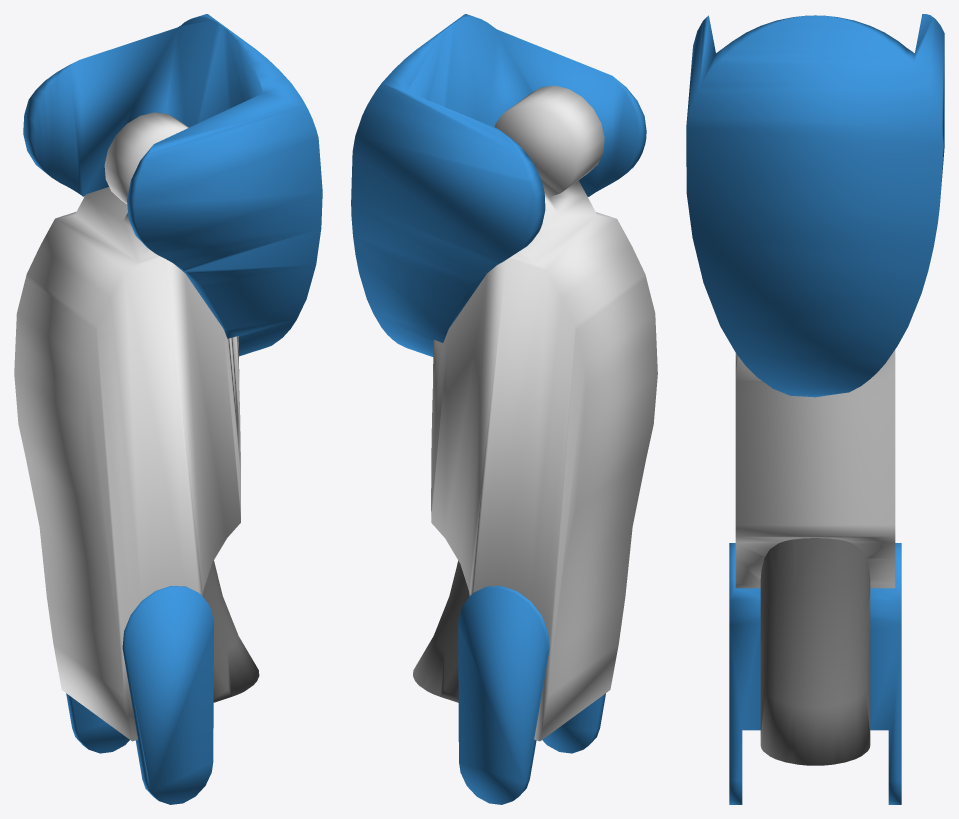
Rendered from R_KNEE_P.dae.
3 renders of one model, left to right at view 1: azimuth 30°, elevation 25°; view 2: azimuth 150°, elevation 25°; view 3: azimuth 270°, elevation 25°, orthographic. The views are drawn at different scales.
Parts seen in each view (by area): view 1: ShapeIndexedFaceS_111, ShapeIndexedFaceS_112, ShapeIndexedFaceS_113; view 2: ShapeIndexedFaceS_111, ShapeIndexedFaceS_112, ShapeIndexedFaceS_113; view 3: ShapeIndexedFaceS_112, ShapeIndexedFaceS_111, ShapeIndexedFaceS_113.
Boxes of the visible parts, bbox=[...] form: ShapeIndexedFaceS_111: bbox=[14, 112, 240, 741]; ShapeIndexedFaceS_112: bbox=[23, 14, 322, 804]; ShapeIndexedFaceS_113: bbox=[202, 560, 259, 702]; ShapeIndexedFaceS_111: bbox=[431, 85, 657, 741]; ShapeIndexedFaceS_112: bbox=[351, 14, 646, 804]; ShapeIndexedFaceS_113: bbox=[413, 560, 469, 702]; ShapeIndexedFaceS_112: bbox=[686, 14, 944, 804]; ShapeIndexedFaceS_111: bbox=[735, 350, 895, 588]; ShapeIndexedFaceS_113: bbox=[760, 538, 870, 765].
Size of the model in its own units: 0.1324 by 0.12 by 0.4247.
